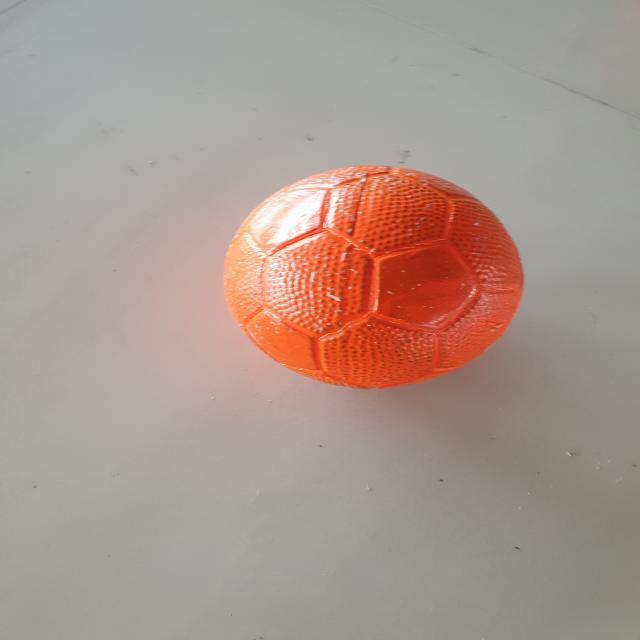bola: (214, 156, 534, 398)
